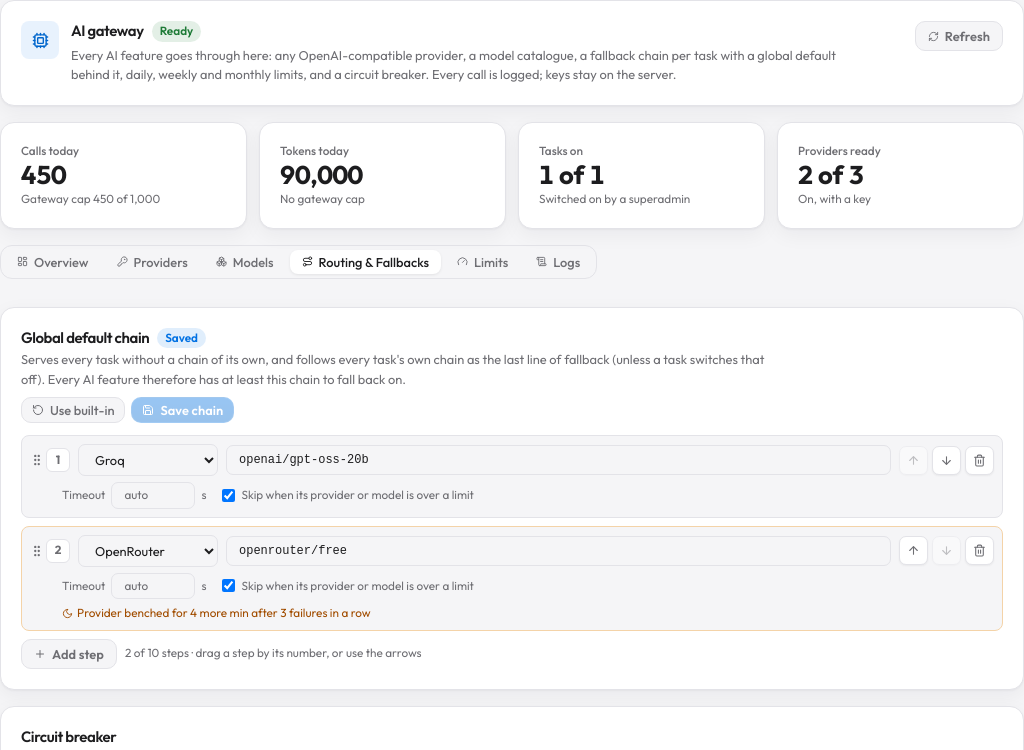
it: routing & fallbacks › refuses a bad timeout or the same model twice
The image size is (1024, 750).
Type "500" into the field named "Timeout for step 1 (seconds)" at {"x": 153, "y": 495}, box [111, 482, 195, 508]
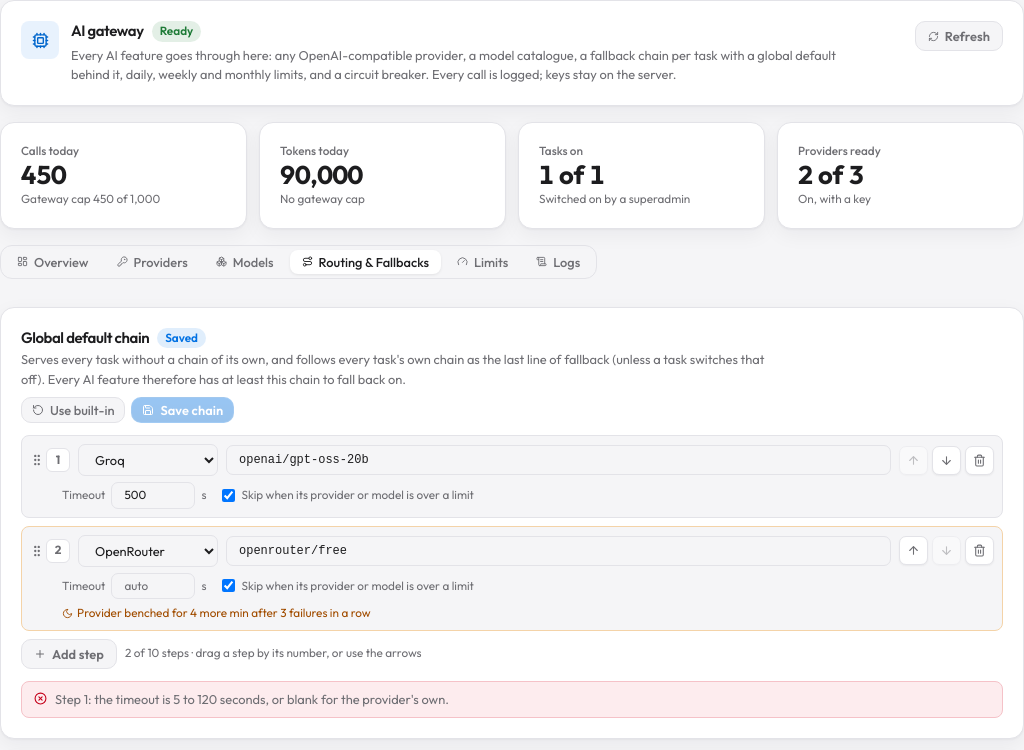
Check: the text "the timeout is 5 to 120 seconds" is shown, box [55, 690, 449, 706]
Clear the field named "Timeout for step 1 (seconds)" at {"x": 153, "y": 495}, box [111, 482, 195, 508]
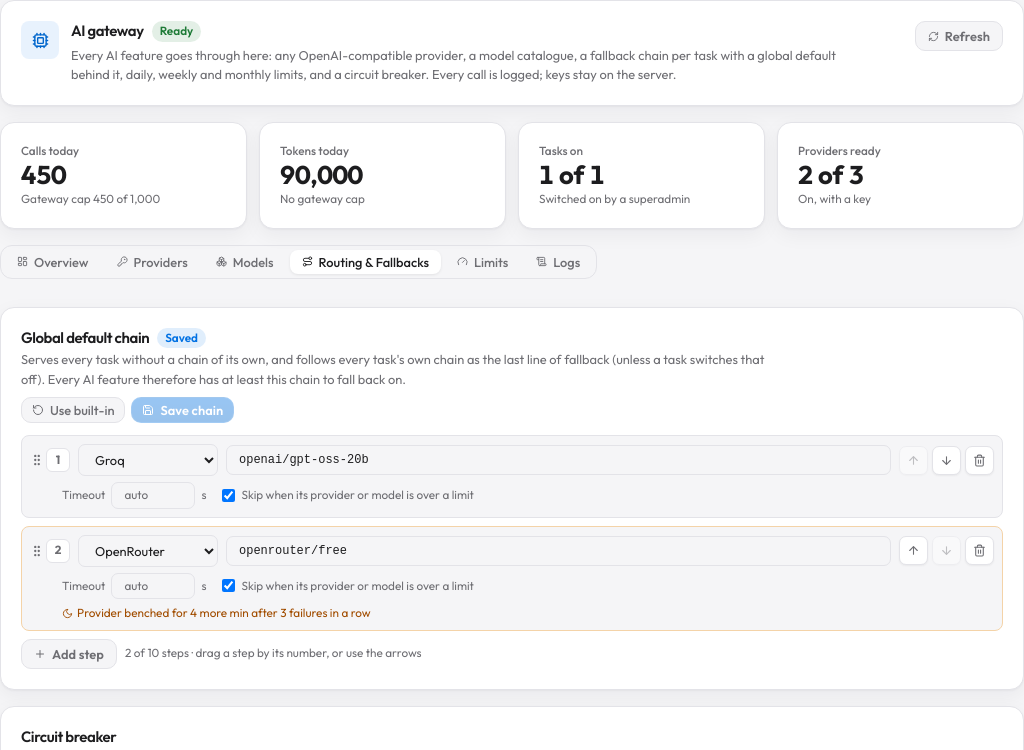
Select "Groq" in the dropdown named "Provider for step 2" at {"x": 148, "y": 550}, box [78, 534, 218, 566]
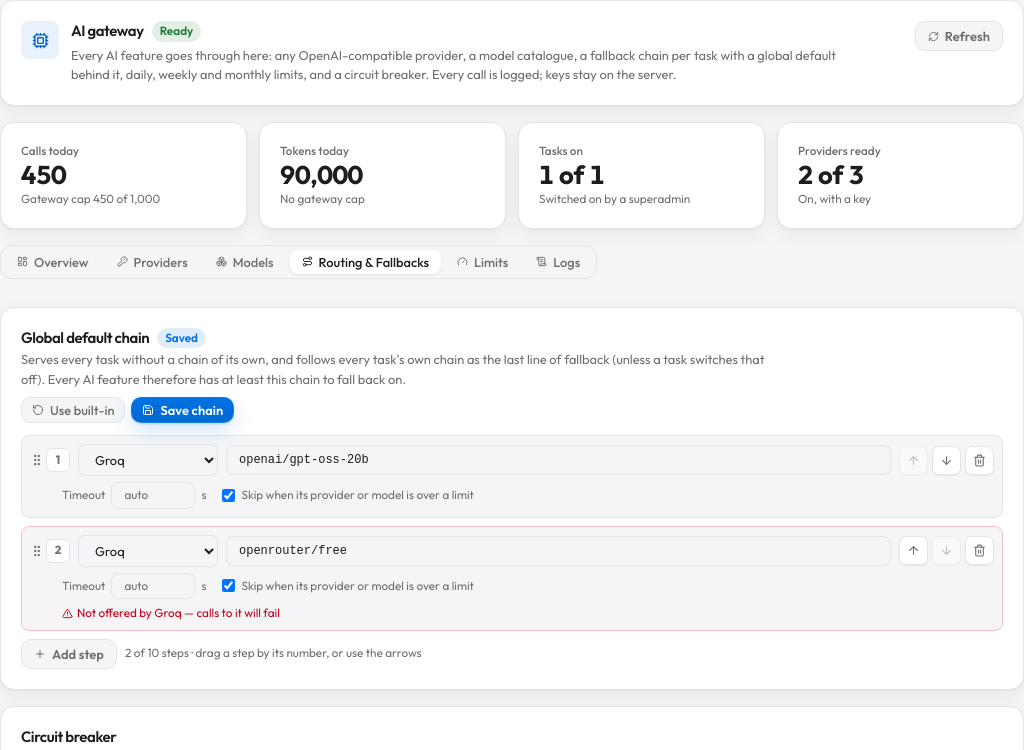
Replace the text in the field named "Model for step 2" with "openai/gpt-oss-20b" at {"x": 558, "y": 550}, box [226, 536, 891, 566]
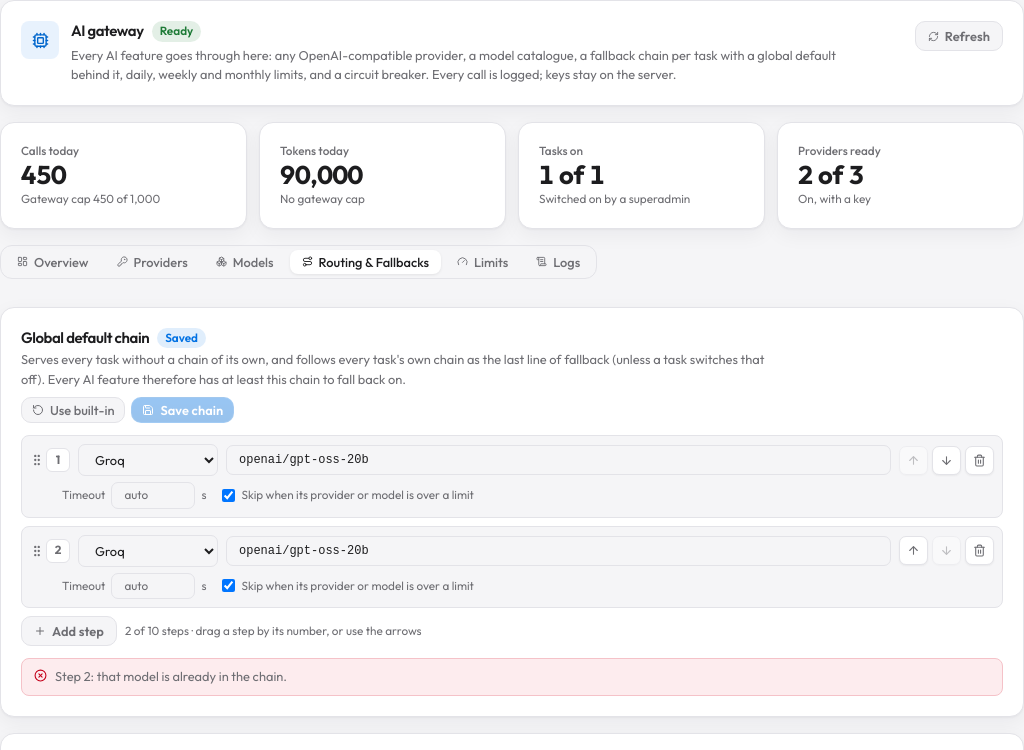
Check: the text "Step 2: that model is already in the chain." is shown, box [55, 667, 287, 686]
Check: the button "Save chain" is disabled, box [132, 397, 234, 423]
